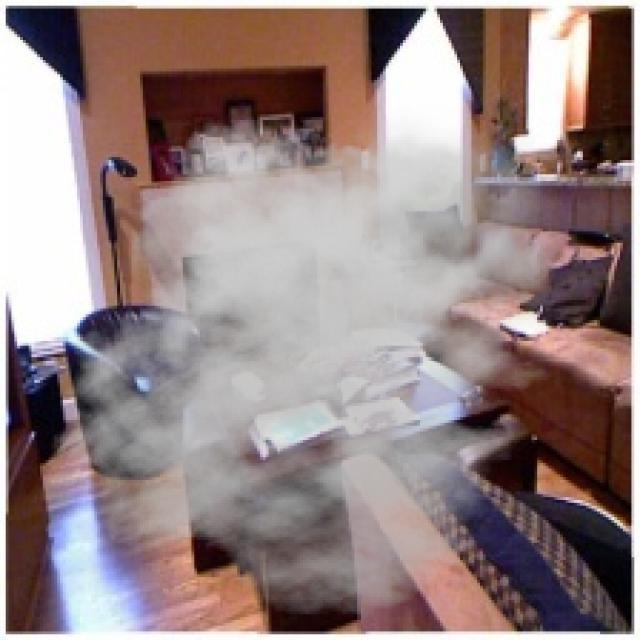Smoke: (51, 102, 583, 618)
